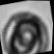correct: (0, 3, 54, 54)
